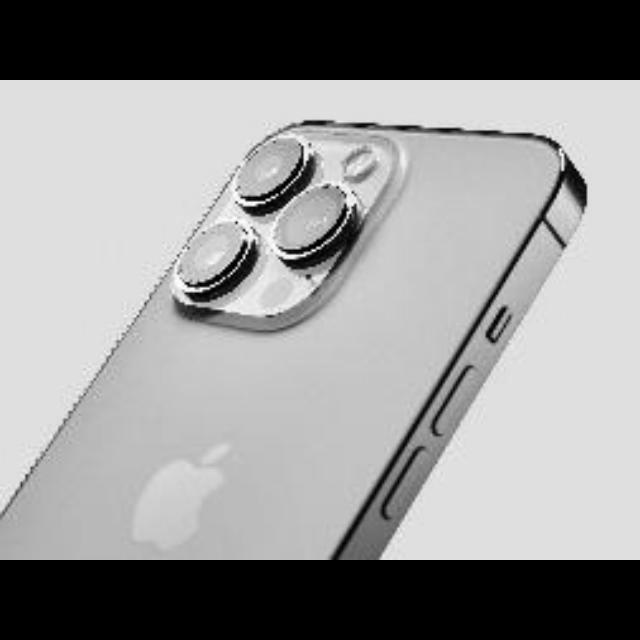fake: (0, 102, 594, 558)
